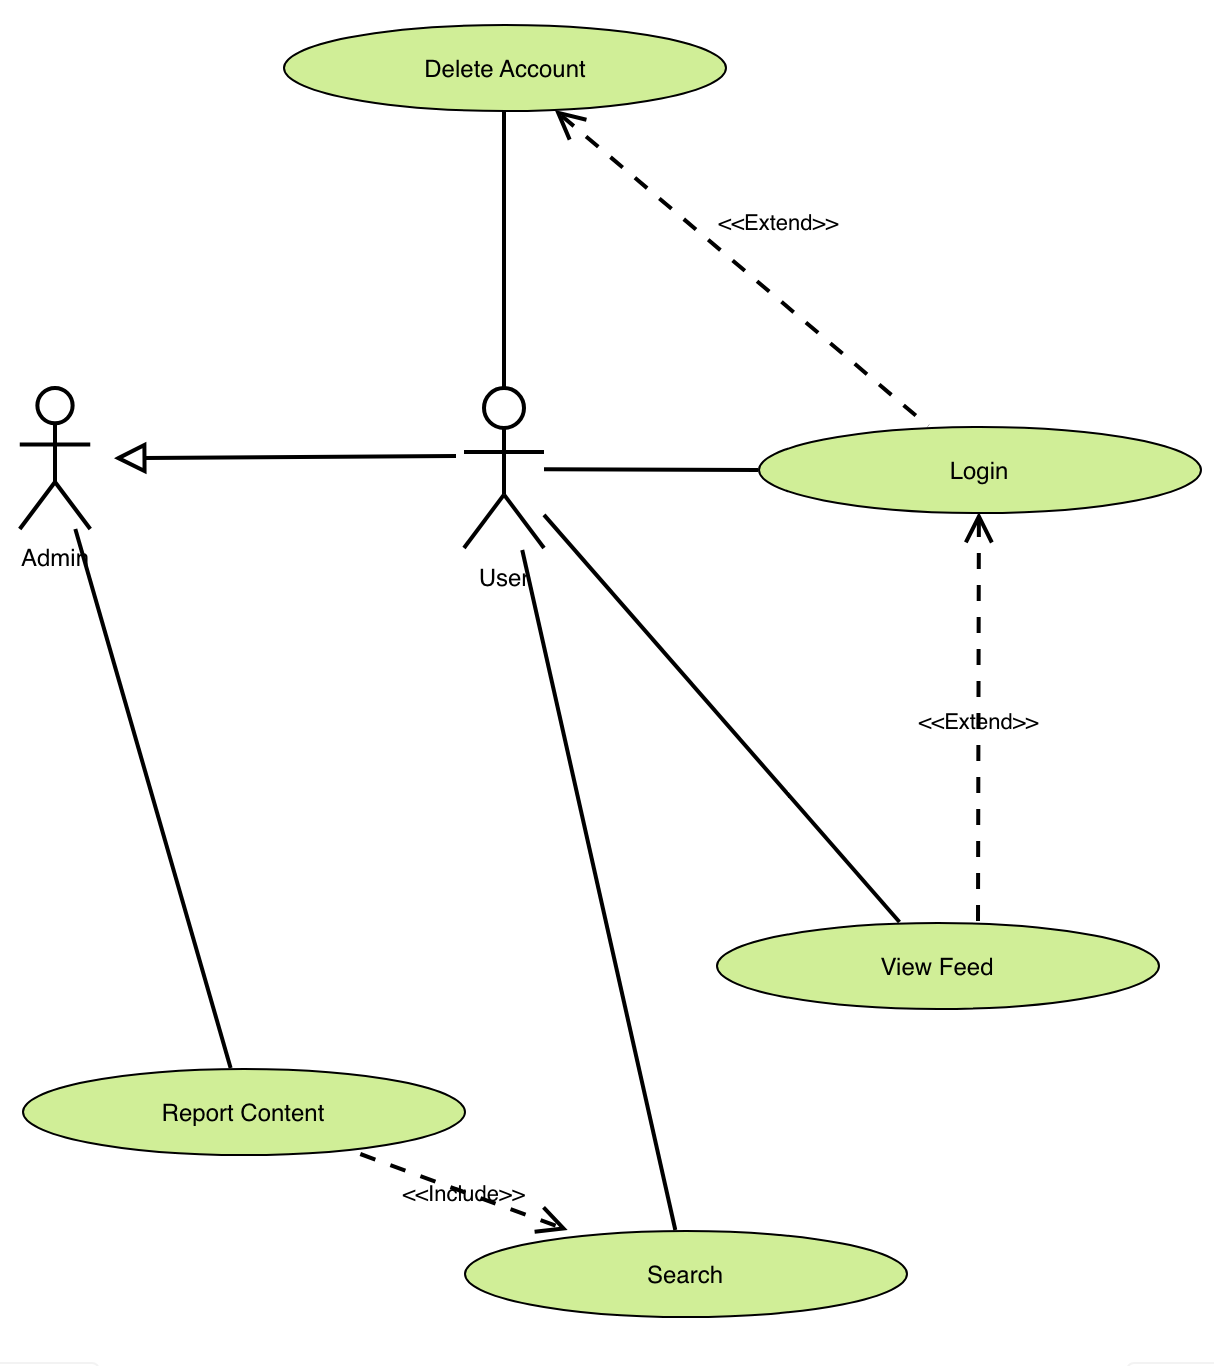actor: (464, 385, 550, 552), (19, 380, 94, 532)
association: (541, 507, 902, 923), (546, 105, 926, 423), (521, 548, 680, 1229), (71, 527, 233, 1073), (955, 513, 1007, 917), (478, 111, 534, 381)
generalization: (110, 433, 461, 479)
text: (143, 1093, 352, 1140), (416, 50, 603, 90), (875, 942, 1000, 993), (712, 199, 852, 240), (902, 703, 1043, 742), (632, 1257, 749, 1295), (395, 1177, 532, 1209), (932, 456, 1032, 493), (11, 533, 93, 571), (471, 560, 532, 600)
use_case: (712, 918, 1164, 1013), (462, 1228, 910, 1323), (282, 22, 730, 117), (753, 423, 1205, 517), (18, 1065, 469, 1159)
